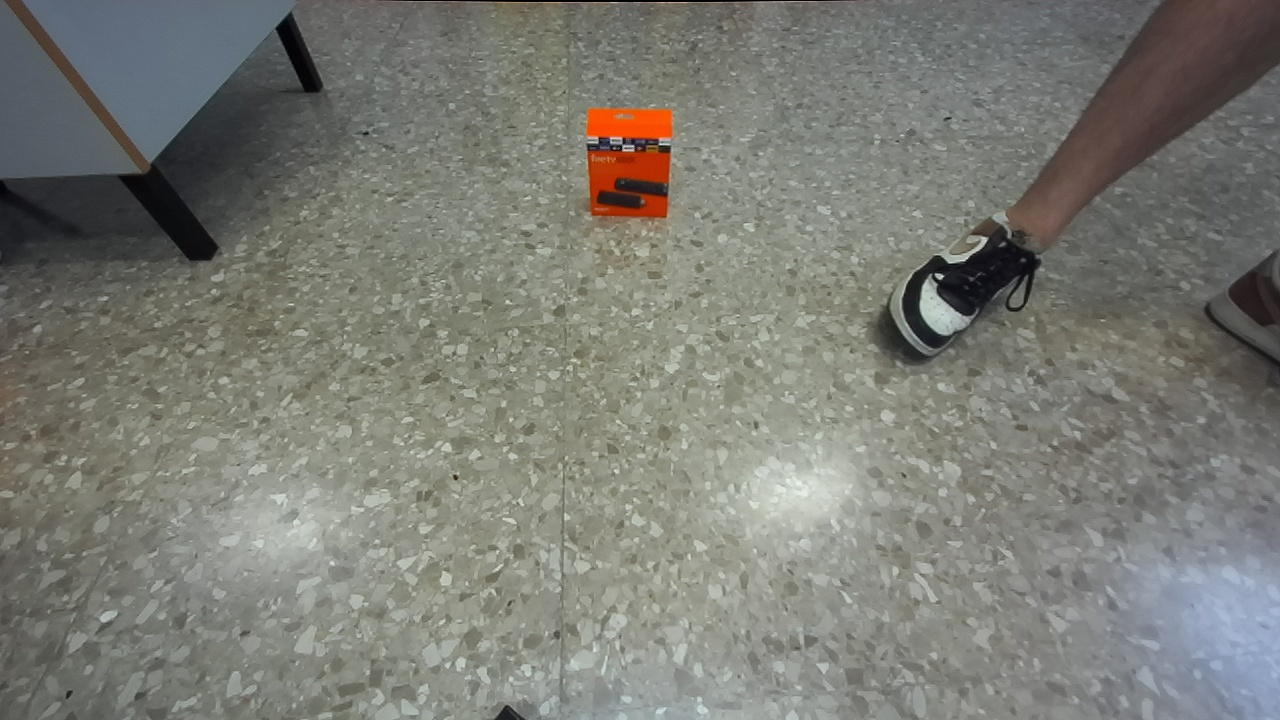caja_manguera: (585, 108, 673, 217)
